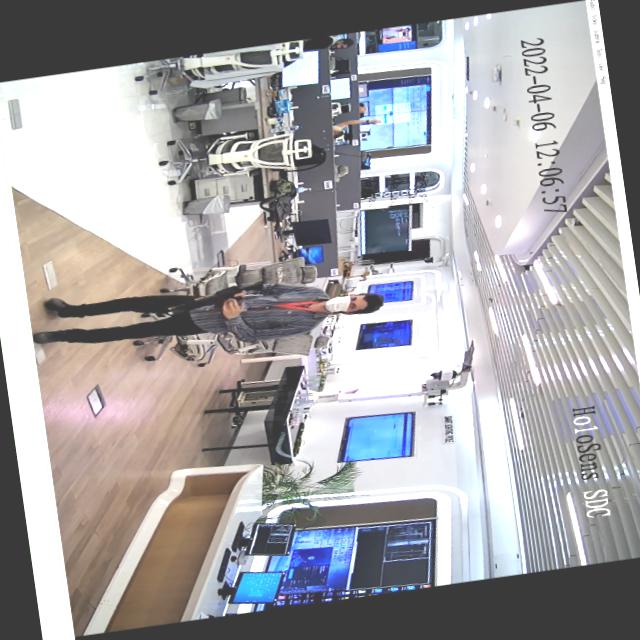long weapon: (158, 278, 275, 320)
